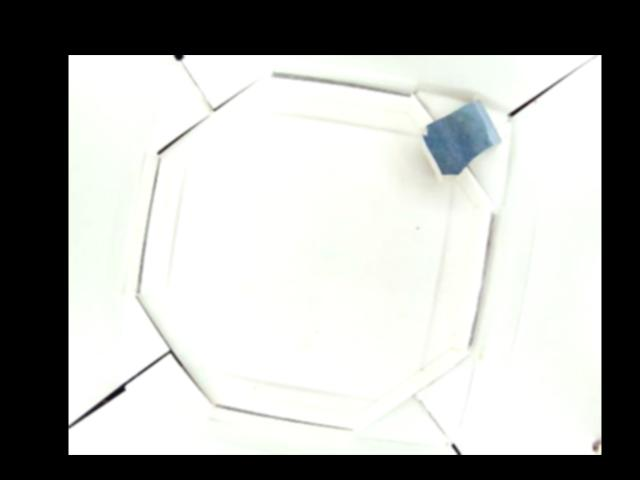China: (420, 100, 500, 179)
